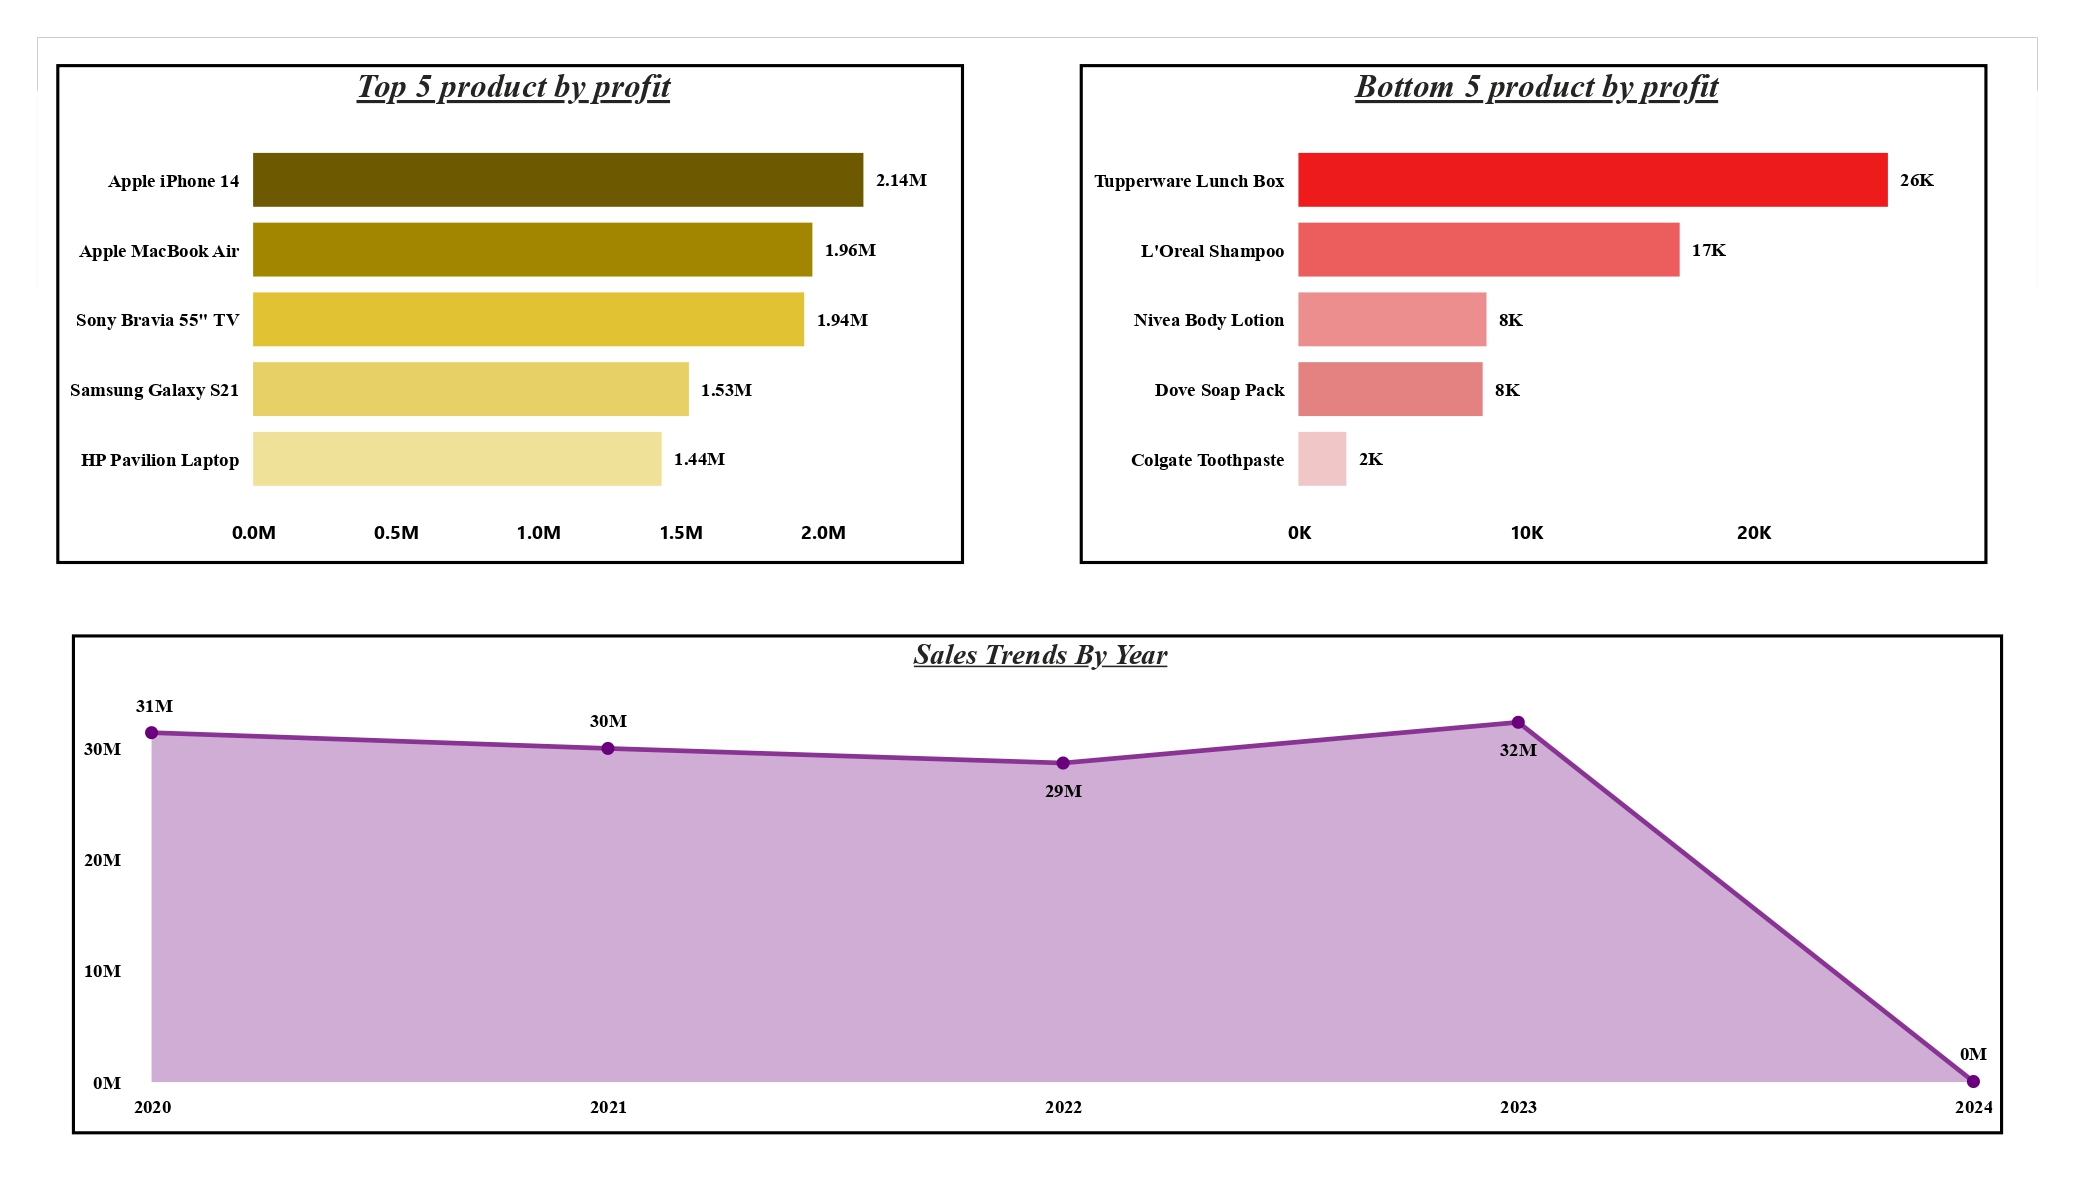

The page's visual inventory and layout, read from the dashboard file:
{"tool":"powerbi","page":{"name":"T/B Sales Trends by yr","canvas":[1280,720],"ordinal":2},"visuals":[{"type":"barChart","title":"Top 5 product by profit","fields":{"Category":["Dim Product.Product Name"],"Y":["Sum(Fact Table.profit)"]},"box":[11.7,16.7,581.7,320],"z":0},{"type":"barChart","title":"Bottom 5 product by profit","fields":{"Category":["Dim Product.Product Name"],"Y":["Sum(Fact Table.profit)"]},"box":[666.7,16.7,581.7,320],"z":1000},{"type":"lineChart","title":"Sales Trends By Year","fields":{"Y":["Sum(Fact Table. Net Sales)"],"Category":["Date Table1.Date.Variation.Date Hierarchy.Year","Date Table1.Date.Variation.Date Hierarchy.Quarter","Date Table1.Date.Variation.Date Hierarchy.Month","Date Table1.Date.Variation.Date Hierarchy.Day"]},"box":[21.7,381.7,1236.7,320],"z":2000}]}

Visuals, with their boxes in screenshot pixels (x1, y1, x2, y2):
"Top 5 product by profit" barChart: (67, 69, 964, 562)
"Bottom 5 product by profit" barChart: (1077, 69, 1974, 562)
"Sales Trends By Year" lineChart: (82, 632, 1989, 1125)
